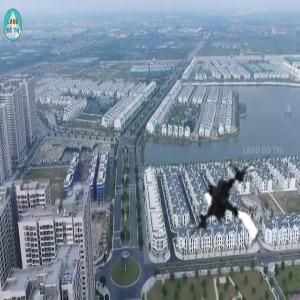drone: (178, 162, 282, 266)
